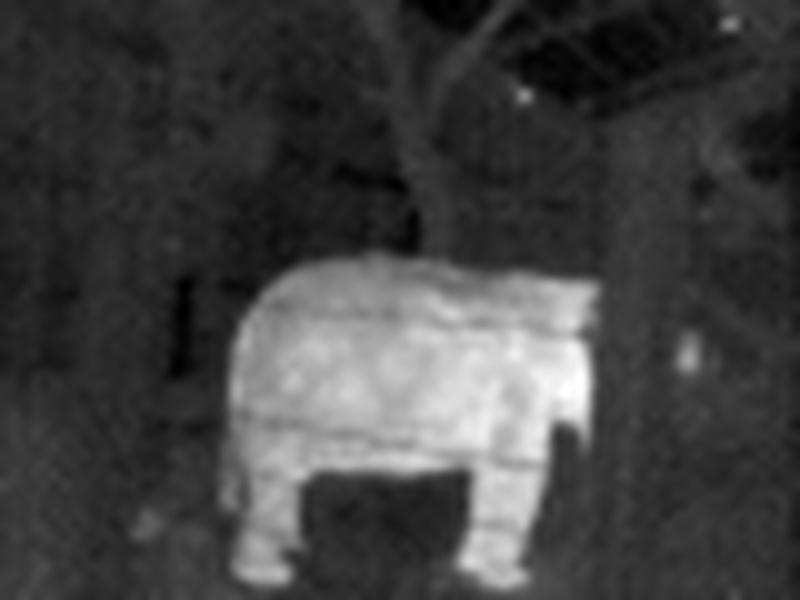elephant: (209, 263, 549, 600)
